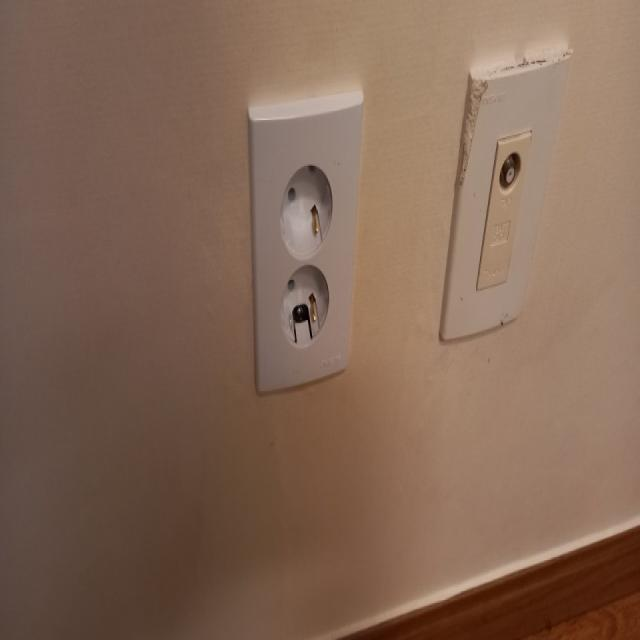typeb: (224, 37, 395, 479)
